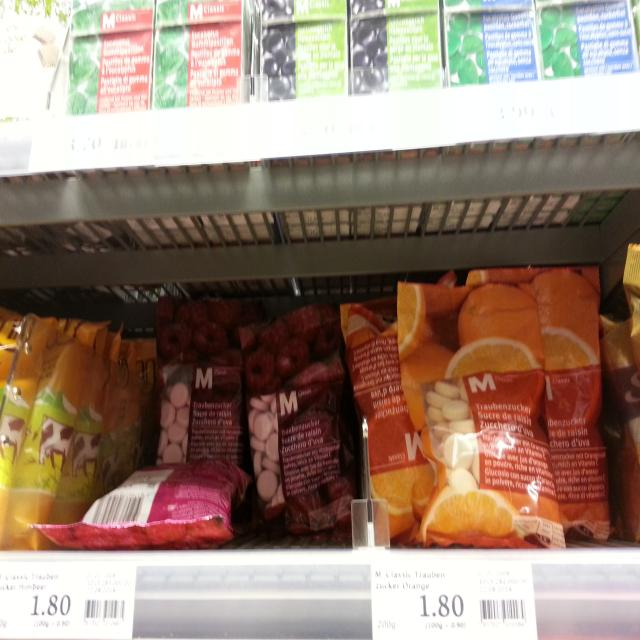Bombons: (396, 283, 566, 550), (234, 299, 356, 541), (36, 461, 252, 547), (152, 296, 242, 464), (151, 0, 250, 105), (69, 0, 154, 113), (533, 1, 640, 82), (350, 0, 442, 94), (260, 1, 347, 100), (444, 0, 540, 85)
